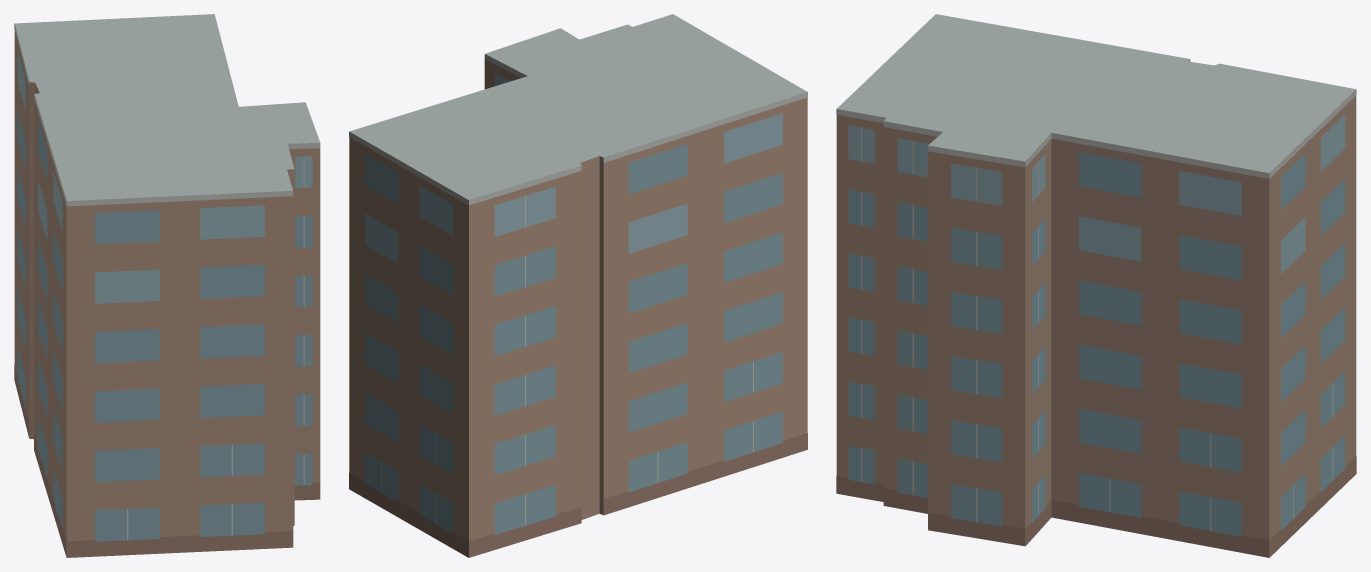
The model's file is survey-upis-33005162.glb.
The picture shows the model from 3 angles, left to right: view 1: azimuth 30°, elevation 25°; view 2: azimuth 150°, elevation 25°; view 3: azimuth 270°, elevation 25°; orthographic projection. The views are drawn at different scales.
Parts seen in each view (by area): view 1: survey-upis-33005162.tmp; view 2: survey-upis-33005162.tmp; view 3: survey-upis-33005162.tmp.
Part boxes in pixels (bbox=[...]): survey-upis-33005162.tmp: bbox=[14, 14, 320, 557]; survey-upis-33005162.tmp: bbox=[349, 14, 807, 557]; survey-upis-33005162.tmp: bbox=[836, 14, 1356, 557].
Bounding box in the file's own units: 14.39 × 16.2 × 19.86.
